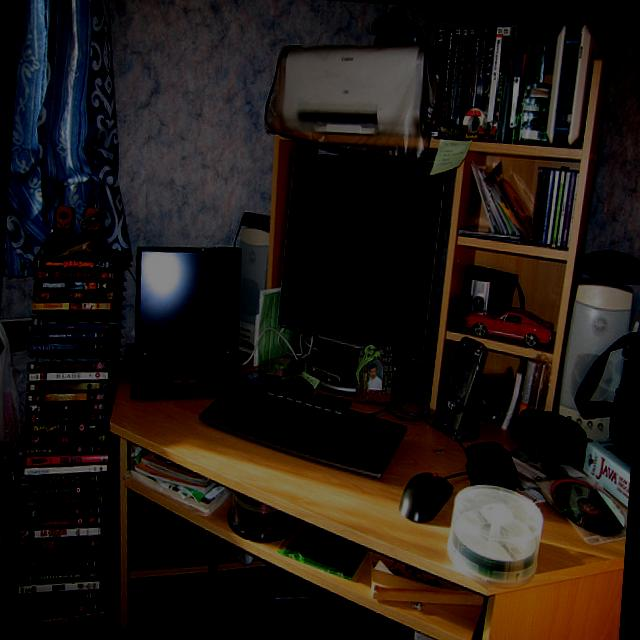Vehicle: (464, 304, 555, 348)
